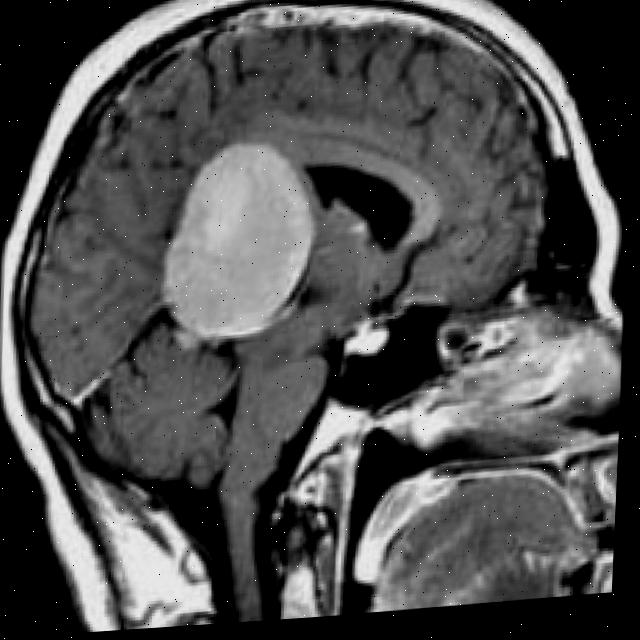Meningioma: (158, 127, 328, 352)
